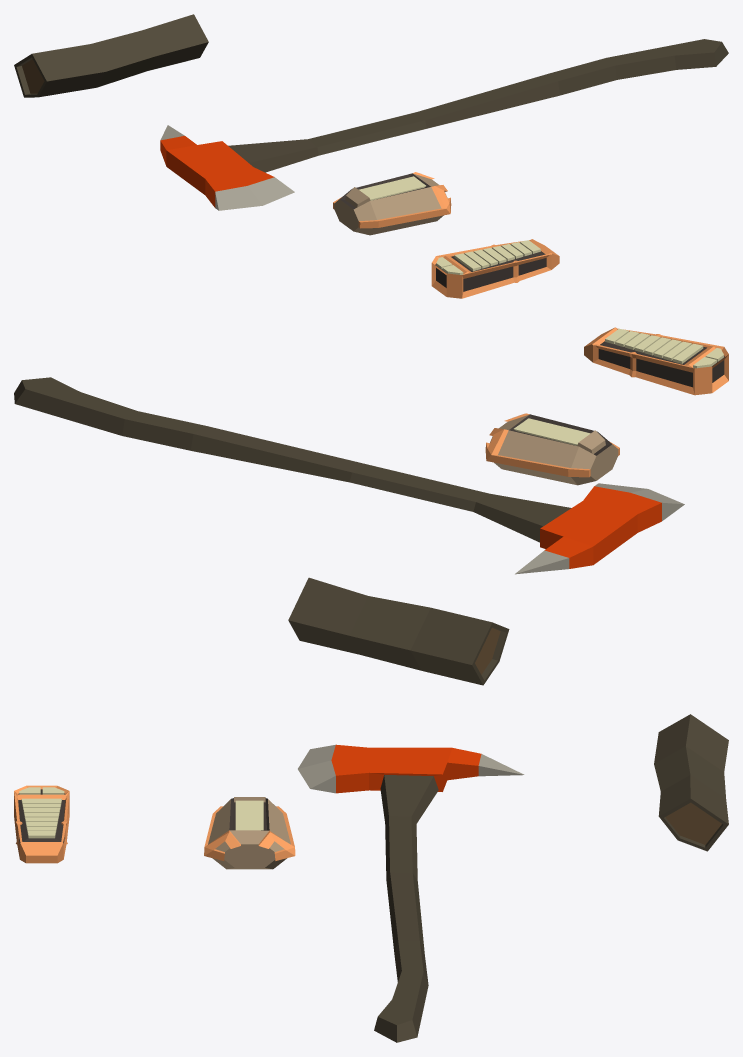
The model's file is items.glb.
3 renders of one model, top to bottom at view 1: azimuth 30°, elevation 25°; view 2: azimuth 150°, elevation 25°; view 3: azimuth 270°, elevation 25°, orthographic. The views are drawn at different scales.
Visible parts, largest first — view 1: Fireaxe, wood, waterTank, frequencyMetter, waterTankBar; view 2: Fireaxe, wood, waterTank, frequencyMetter, waterTankBar; view 3: Fireaxe, wood, waterTank, frequencyMetter, waterTankBar.
Part boxes in pixels (<box>): Fireaxe: <box>160,39,728,210</box>; wood: <box>14,14,208,97</box>; waterTank: <box>333,172,451,235</box>; frequencyMetter: <box>431,239,559,298</box>; waterTankBar: <box>359,176,425,200</box>; Fireaxe: <box>14,377,684,574</box>; wood: <box>288,577,509,685</box>; waterTank: <box>485,413,619,485</box>; frequencyMetter: <box>584,327,728,395</box>; waterTankBar: <box>514,418,590,445</box>; Fireaxe: <box>298,744,524,1042</box>; wood: <box>654,714,728,851</box>; waterTank: <box>204,797,295,869</box>; frequencyMetter: <box>14,785,69,863</box>; waterTankBar: <box>235,800,263,830</box>.
Size of the model in its own units: 4.95 by 0.457 by 5.14.
